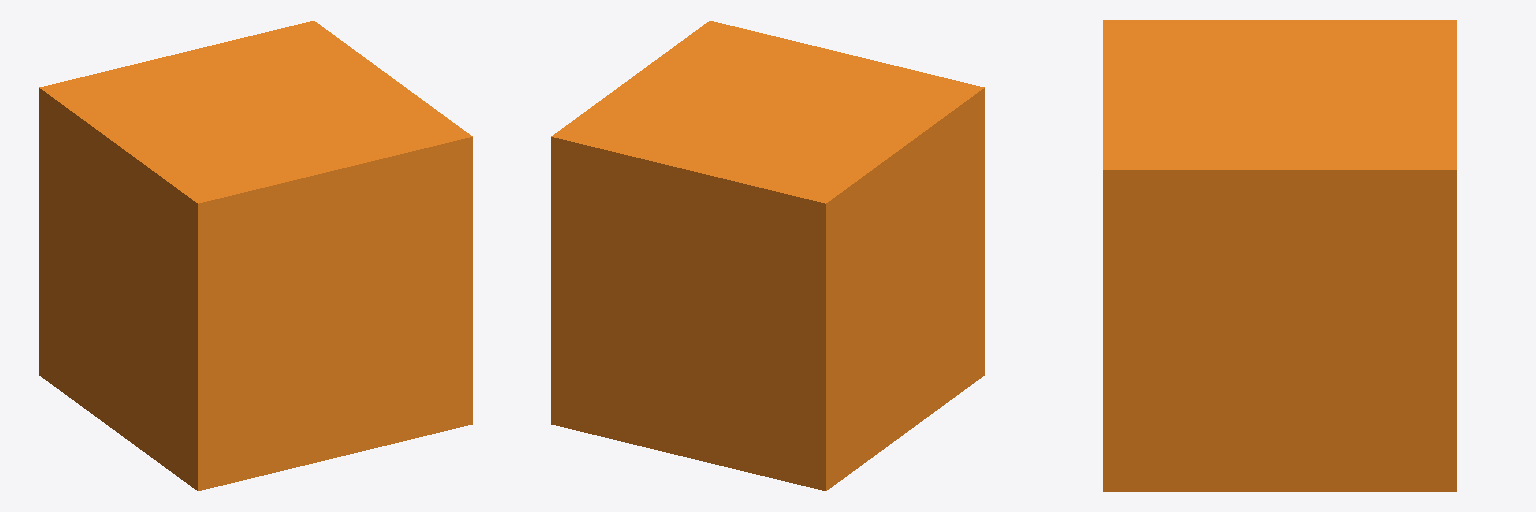
The robot description file, URDF, robot "small_cube":
<?xml version="1.0"?>
<!-- A small cube 60mm on each side weighing 1kg -->
<robot name="small_cube" xmlns:xacro="http://ros.org/wiki/xacro">
  <link name="base_link">
    <contact>
      <lateral_friction value="1.0"/>
      <rolling_friction value="0.0"/>
      <contact_cfm value="0.0"/>
      <contact_erp value="1.0"/>
    </contact>
    <inertial>
      <origin rpy="0 0 0" xyz="0 0 0"/>
       <mass value="1.0"/>
       <inertia ixx="1" ixy="0" ixz="0" iyy="1" iyz="0" izz="1"/>
    </inertial>
    <visual>
      <origin rpy="0 0 0" xyz="0 0 0"/>
      <geometry>
        <box size="0.06 0.06 0.06"/>
      </geometry>
      <material name="cube_orange">
        <color rgba="1.0 0.6 0.2 1"/>
      </material>
    </visual>
    <collision>
      <origin rpy="0 0 0" xyz="0 0 0"/>
      <geometry>
        <box size="0.06 0.06 0.06"/>
      </geometry>
    </collision>
  </link>
</robot>

--- Facts derived from the render (not from the file) ---
3 views of the same robot in one strip: view 1: azimuth 30°, elevation 25°; view 2: azimuth 150°, elevation 25°; view 3: azimuth 270°, elevation 25° (orthographic).
Robot: small_cube — 1 links, 0 joints (none); root link base_link; default pose: all joints at 0.
Visible links, largest first — view 1: base_link; view 2: base_link; view 3: base_link.
Link boxes in pixels (x1,y1,x2,y2): base_link: (39, 21, 472, 490); base_link: (551, 21, 984, 490); base_link: (1103, 20, 1456, 491).
Bounding box of the posed robot: 0.06 × 0.06 × 0.06 m (x, y, z).
Geometry: primitives only (box / cylinder / sphere), no mesh files.